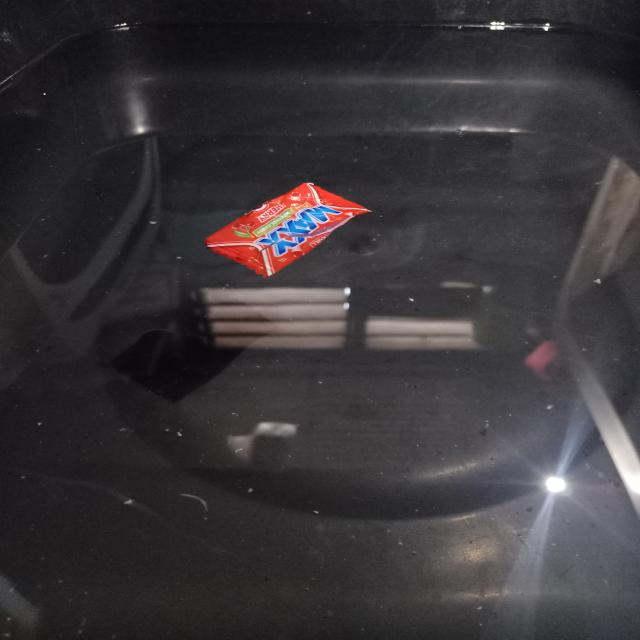Plastic Wrapper: (205, 183, 370, 277)
